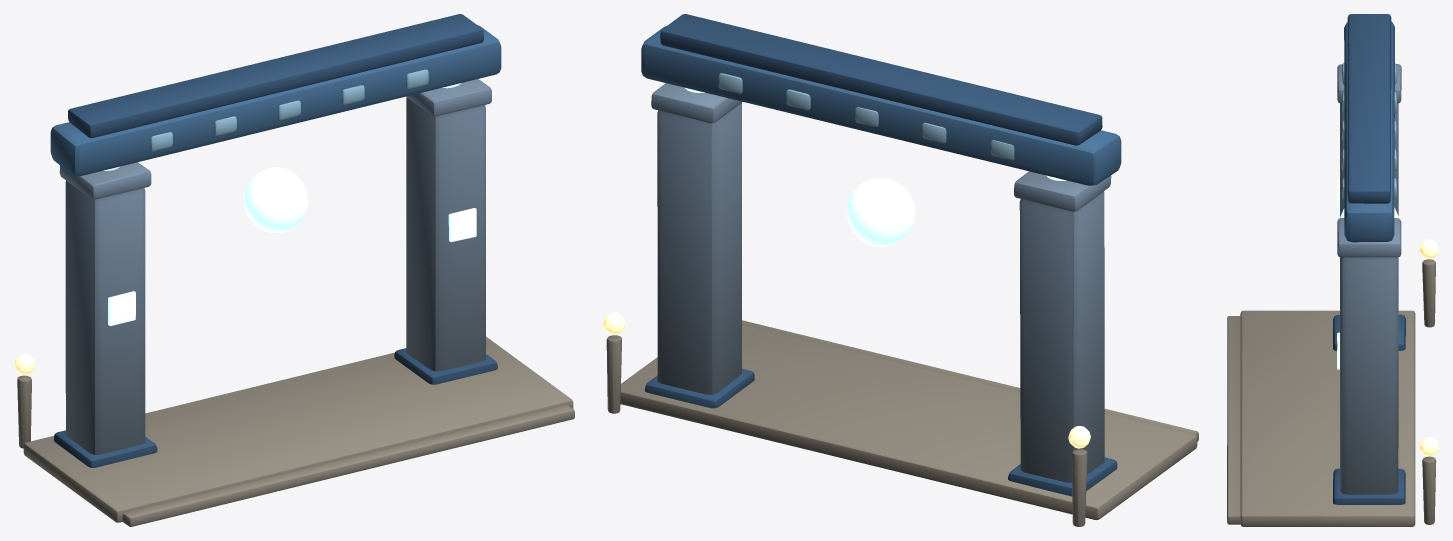
The picture shows the model from 3 angles, left to right: view 1: azimuth 30°, elevation 25°; view 2: azimuth 150°, elevation 25°; view 3: azimuth 270°, elevation 25°; orthographic projection. The views are drawn at different scales.
Parts seen in each view (by area): view 1: gate_0cd8a618; view 2: gate_0cd8a618; view 3: gate_0cd8a618.
Boxes of the visible parts, x1,y1,x2,y2 form: gate_0cd8a618: (14, 14, 574, 526); gate_0cd8a618: (603, 14, 1198, 526); gate_0cd8a618: (1227, 14, 1438, 526).
Size of the model in its own units: 5.87 by 4.29 by 2.54.
